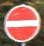No entry: (5, 5, 39, 41)
